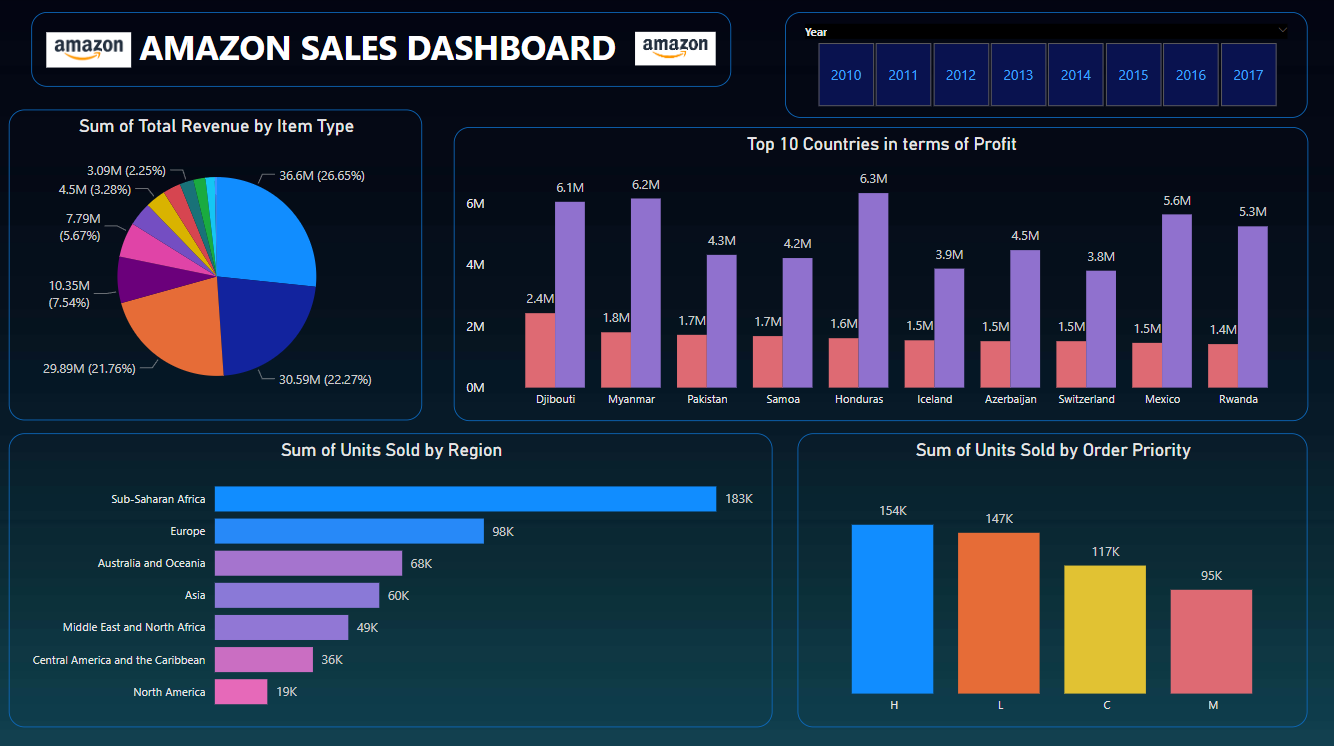

What the dashboard file says about the page in this screenshot:
{"tool":"powerbi","page":{"name":"Page 2","canvas":[1280,720],"ordinal":1},"visuals":[{"type":"barChart","fields":{"Category":["Amazon Sales data.Region"],"Y":["Sum(Amazon Sales data.Units Sold)"]},"box":[13.1,415.3,727.1,279.7],"z":0},{"type":"columnChart","fields":{"Category":["Amazon Sales data.Order Priority"],"Y":["Sum(Amazon Sales data.Units Sold)"]},"box":[764,415.3,485.6,279.7],"z":1000},{"type":"pieChart","fields":{"Category":["Amazon Sales data.Item Type"],"Y":["Sum(Amazon Sales data.Total Revenue)"]},"box":[13.1,107.1,393.9,296.3],"z":2000},{"type":"clusteredColumnChart","title":"Top 10 Countries in terms of Profit","fields":{"Category":["Amazon Sales data.Country"],"Y":["Sum(Amazon Sales data.Total Profit)","Sum(Amazon Sales data.Total Revenue)"]},"box":[436.4,123.5,813.7,279.9],"z":3000},{"type":"slicer","fields":{"Values":["Amazon Sales data.Order Date.Variation.Date Hierarchy.Year"]},"box":[752.1,14.3,497.5,101.2],"z":4000},{"type":"textbox","box":[34.5,14.3,666.4,71.4],"z":5000},{"type":"image","box":[604.6,6,86.9,86.9],"z":6000},{"type":"image","box":[44,4.8,90.4,90.4],"z":7000}]}

Visuals, with their boxes in screenshot pixels (x1, y1, x2, y2), scaled from the page's 1280x720 canvas onto the 1334x746 screenshot:
barChart - Amazon Sales data.Region x Sum(Amazon Sales data.Units Sold): 14, 430, 771, 720
columnChart - Amazon Sales data.Order Priority x Sum(Amazon Sales data.Units Sold): 796, 430, 1302, 720
pieChart - Amazon Sales data.Item Type x Sum(Amazon Sales data.Total Revenue): 14, 111, 424, 418
"Top 10 Countries in terms of Profit" clusteredColumnChart: 455, 128, 1303, 418
slicer - Amazon Sales data.Order Date.Variation.Date Hierarchy.Year: 784, 15, 1302, 120
textbox: 36, 15, 730, 89
image: 630, 6, 721, 96
image: 46, 5, 140, 99
